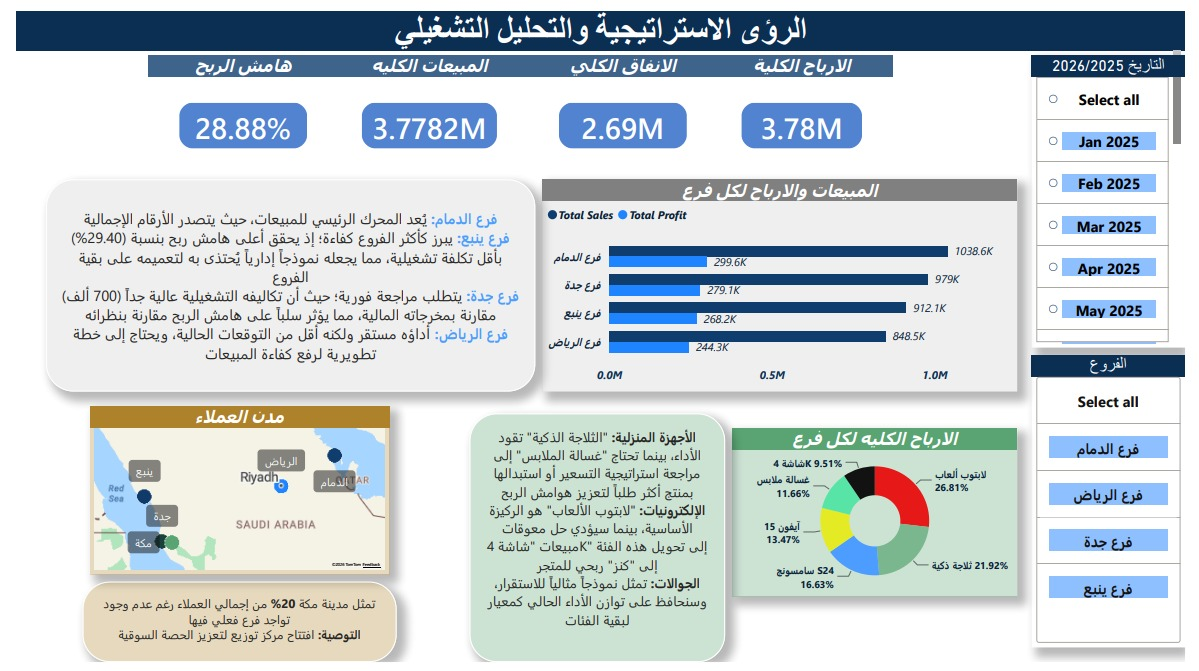

The page's visual inventory and layout, read from the dashboard file:
{"tool":"powerbi","page":{"name":"Business Insights","canvas":[1280,720],"ordinal":2},"visuals":[{"type":"textbox","title":"الرؤى الاستراتيجية والتحليل التشغيلي","box":[0,8,1280,56],"z":0},{"type":"advancedSlicerVisual","title":"التاريخ 2026/2025","fields":{"Values":["Calendar.Month Year"]},"box":[1112,56,168,320],"z":2000},{"type":"advancedSlicerVisual","title":"الفروع","fields":{"Values":["Branches.BranchName"]},"box":[1112,384,168,320],"z":3000},{"type":"cardVisual","title":"المبيعات الكليه","fields":{"Data":["Orders.Total Sales"]},"box":[344,56,216,136],"z":4000},{"type":"cardVisual","title":"الانفاق الكلي","fields":{"Data":["Orders.Total Cost"]},"box":[560,56,208,136],"z":5000},{"type":"cardVisual","title":"الارباح الكلية","fields":{"Data":["Orders.Total Sales"]},"box":[760,56,200,136],"z":6000},{"type":"cardVisual","title":"هامش الربح","fields":{"Data":["Orders.Profit Margin%"]},"box":[144,56,208,136],"z":7000},{"type":"textbox","box":[32,192,536,232],"z":8000},{"type":"donutChart","title":"الارباح الكليه لكل فرع","fields":{"Category":["Products.ProductName"],"Y":["Orders.Total Profit"]},"box":[784,464,312,184],"z":8001},{"type":"azureMap","title":"مدن العملاء","fields":{"Category":["Customers.City"],"Series":["Customers.City"]},"box":[80,440,328,184],"z":8002},{"type":"textbox","box":[72,632,344,88],"z":8003},{"type":"clusteredBarChart","title":"المبيعات والارباح لكل فرع","fields":{"Category":["Branches.BranchName"],"Y":["Orders.Total Sales","Orders.Total Profit"]},"box":[576,192,520,232],"z":8004},{"type":"textbox","box":[496,448,280,272],"z":8005}]}

Visuals, with their boxes in screenshot pixels (x1, y1, x2, y2), scaled from the page's 1280x720 canvas onto the 1199x671 screenshot:
"الرؤى الاستراتيجية والتحليل التشغيلي" textbox: x1=0 y1=7 x2=1198 y2=60
"التاريخ 2026/2025" advancedSlicerVisual: x1=1042 y1=52 x2=1198 y2=350
"الفروع" advancedSlicerVisual: x1=1042 y1=358 x2=1198 y2=656
"المبيعات الكليه" cardVisual: x1=322 y1=52 x2=525 y2=179
"الانفاق الكلي" cardVisual: x1=525 y1=52 x2=719 y2=179
"الارباح الكلية" cardVisual: x1=712 y1=52 x2=899 y2=179
"هامش الربح" cardVisual: x1=135 y1=52 x2=330 y2=179
textbox: x1=30 y1=179 x2=532 y2=395
"الارباح الكليه لكل فرع" donutChart: x1=734 y1=432 x2=1027 y2=604
"مدن العملاء" azureMap: x1=75 y1=410 x2=382 y2=582
textbox: x1=67 y1=589 x2=390 y2=670
"المبيعات والارباح لكل فرع" clusteredBarChart: x1=540 y1=179 x2=1027 y2=395
textbox: x1=465 y1=418 x2=727 y2=670
